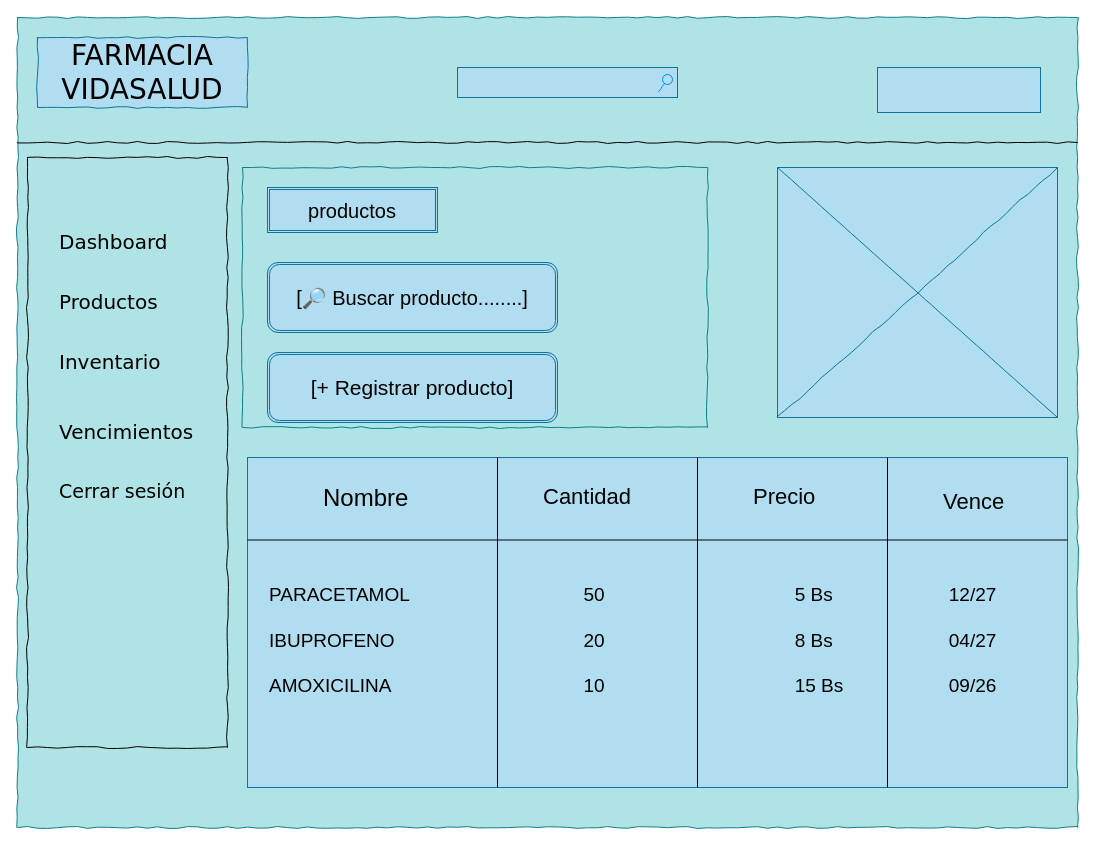
Some shapes in this 1095 by 845 pixel diagram are drawn without their labels. Each missing label, with the centre of its shape:
"Search" goes at pixel 567 82.
"Usuario: María" goes at pixel 958 89.
